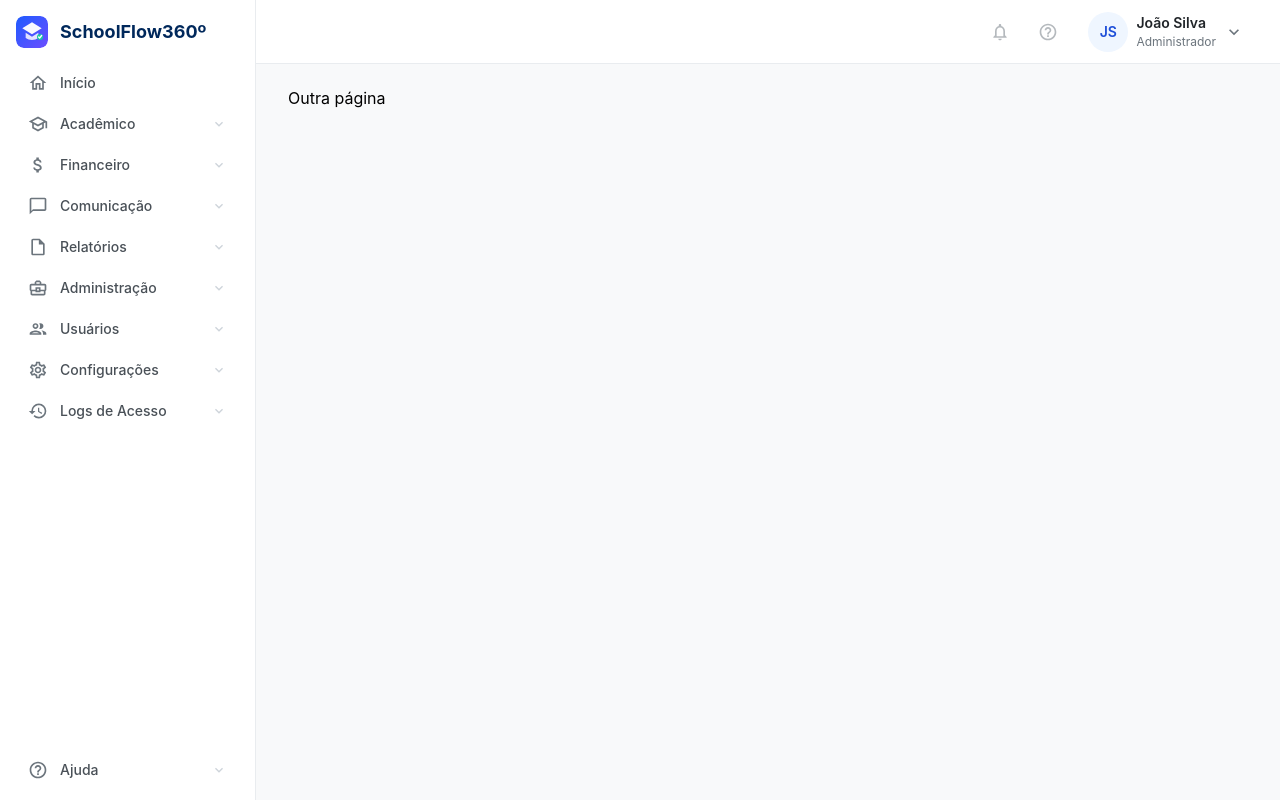
Test: AppShell › navigates to Minha Unidade after expanding the group and clicking its item
Click the button "Administração". click: [128, 288]
box: [16, 269, 239, 306]
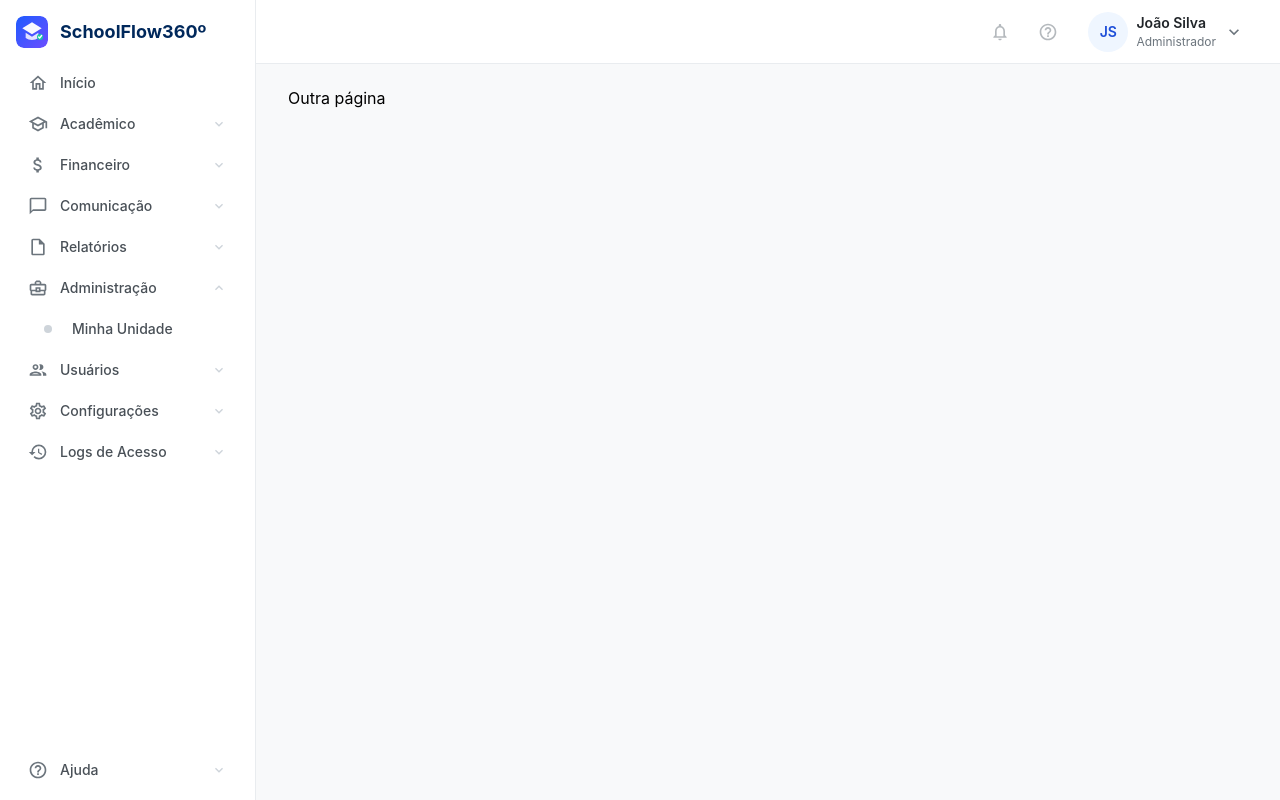
Click the button "Minha Unidade". click: [132, 328]
box: [24, 310, 239, 347]
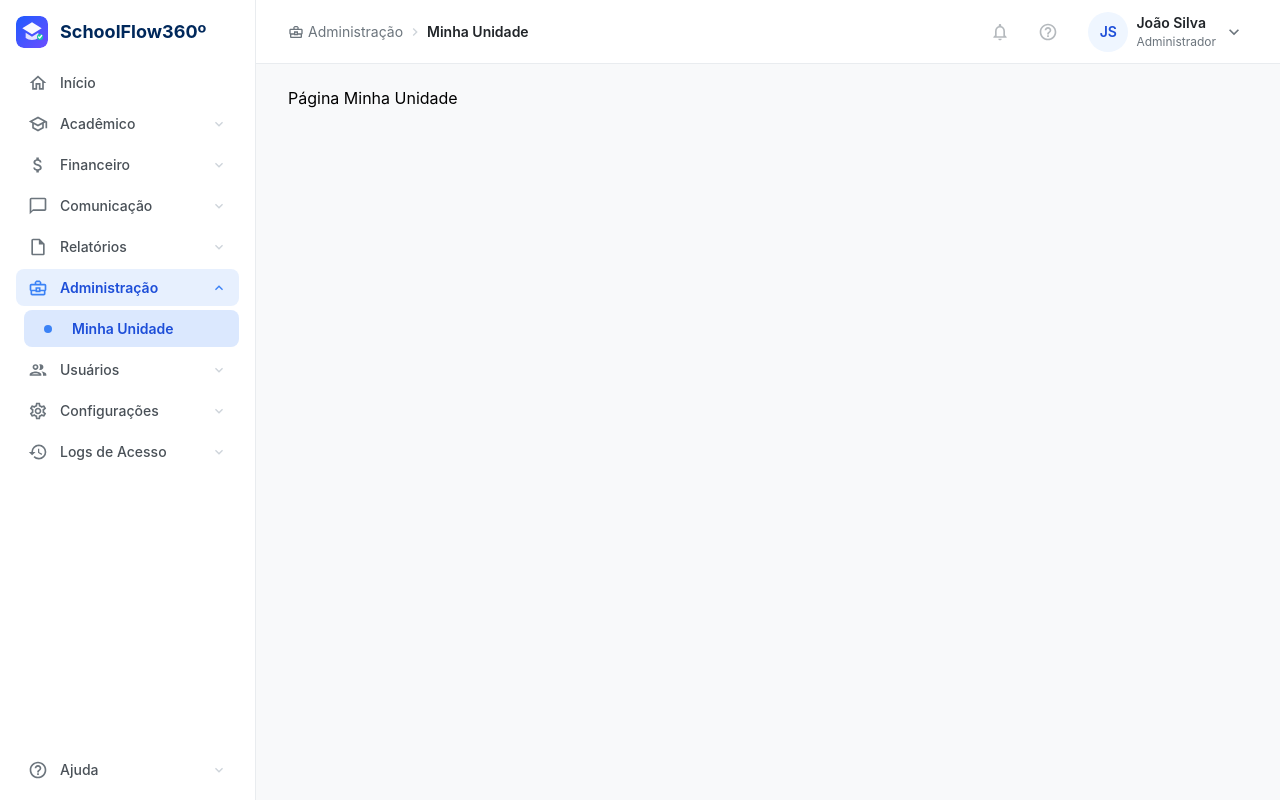
Now the text "Página Minha Unidade" is shown, box [288, 88, 458, 108]
